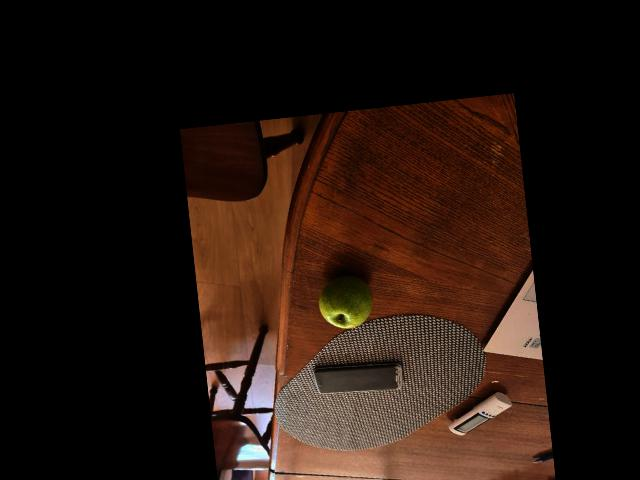apple: (318, 271, 375, 330)
